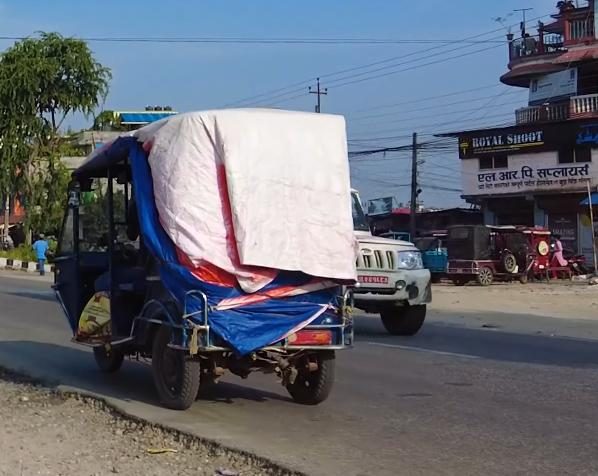e-rickshaw: (50, 102, 351, 424), (444, 222, 529, 286)
